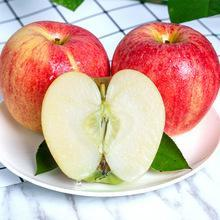apple: (42, 70, 163, 184), (109, 23, 220, 133), (1, 22, 108, 136)
